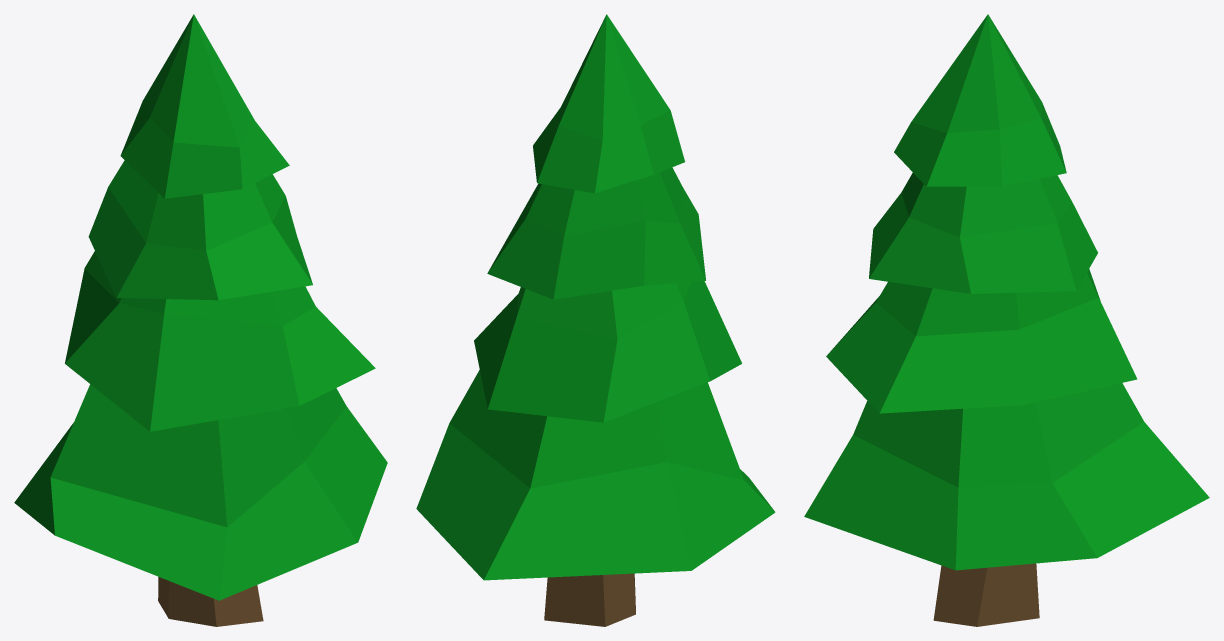
The model's file is Tree_medium_1.fbx.
The picture shows the model from 3 angles, left to right: view 1: azimuth 30°, elevation 25°; view 2: azimuth 150°, elevation 25°; view 3: azimuth 270°, elevation 25°; orthographic projection.
Parts seen in each view (by area): view 1: Cone; view 2: Cone; view 3: Cone.
Part boxes in pixels (bbox=[...]): Cone: bbox=[14, 14, 387, 626]; Cone: bbox=[416, 14, 775, 626]; Cone: bbox=[804, 14, 1209, 626].
Bounding box in the file's own units: 950 × 1636 × 1025.
